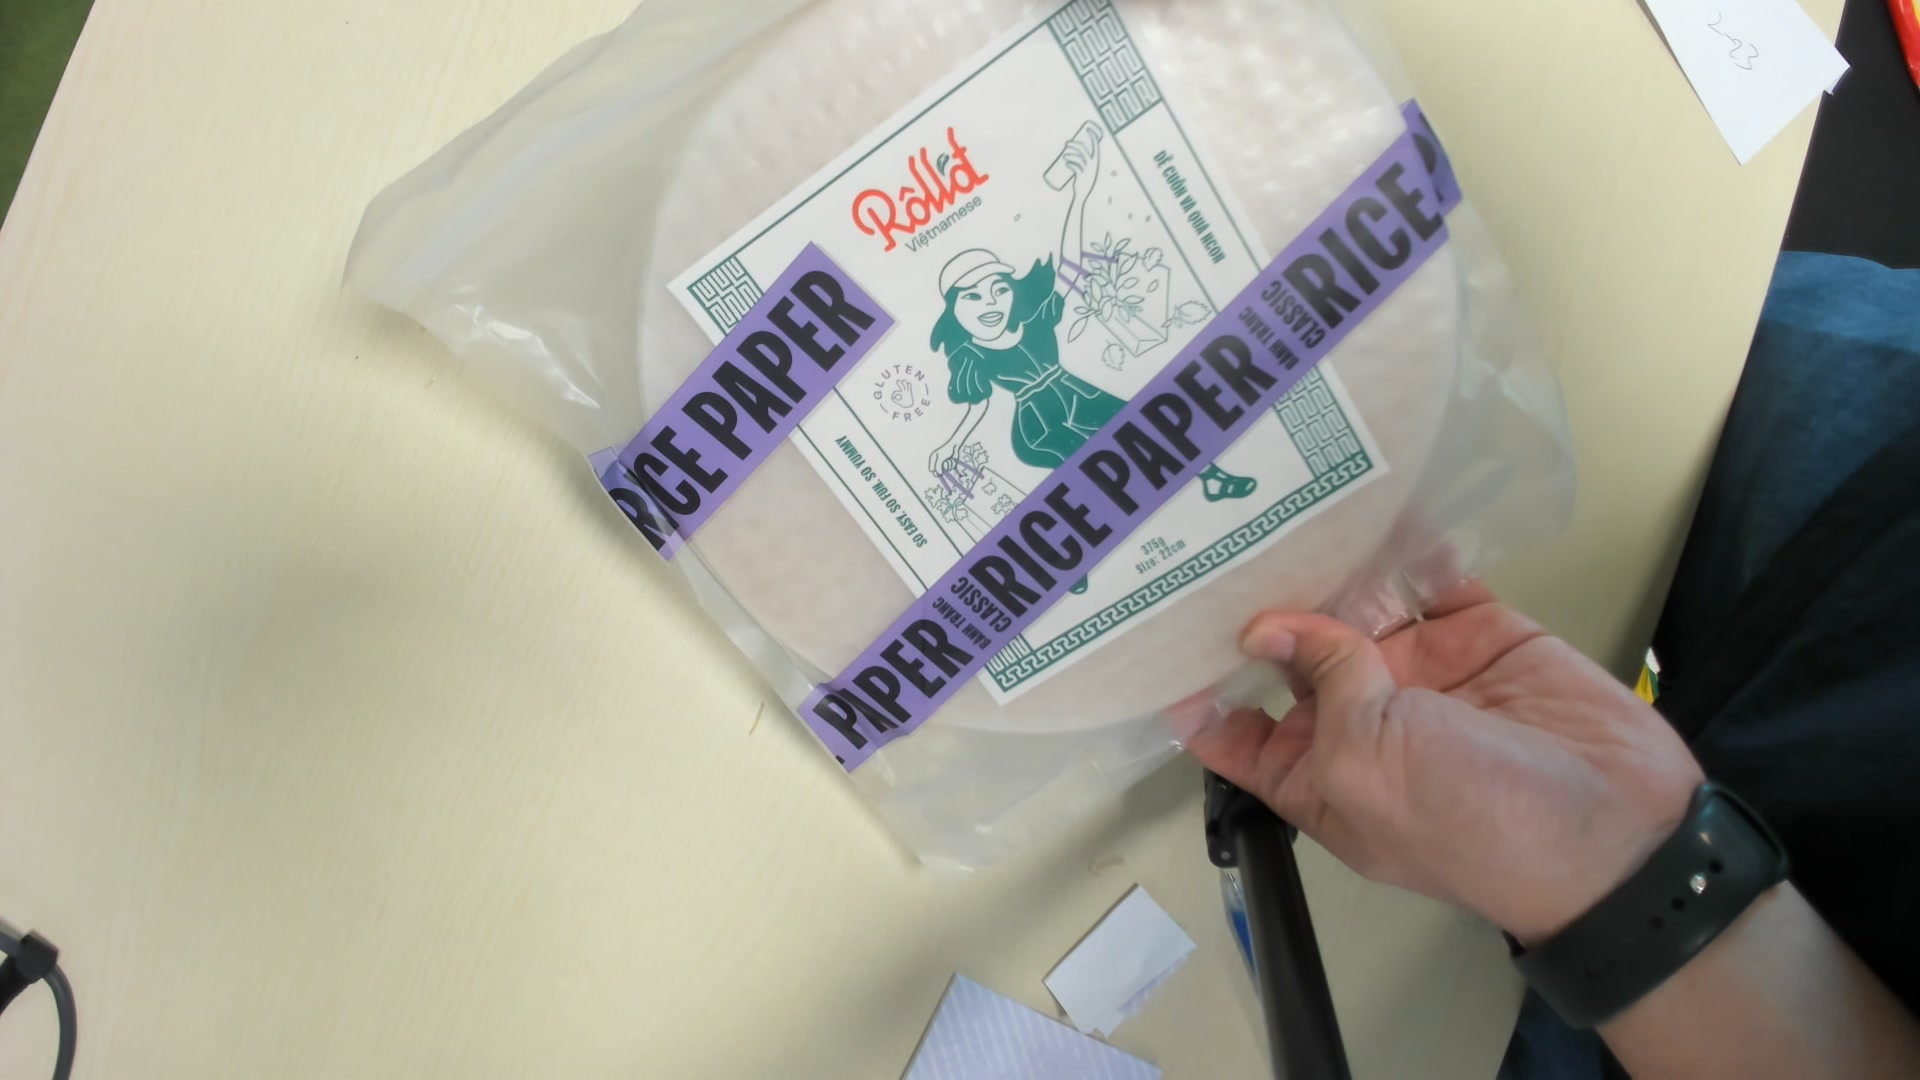InstantMeals_300_399g_NonHalal_NonHealthy: (342, 3, 1592, 873)
